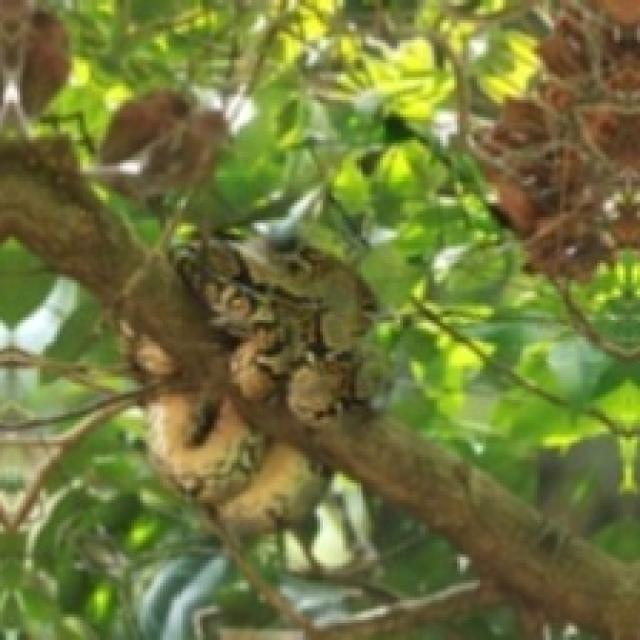reticulated python: (137, 237, 371, 534)
